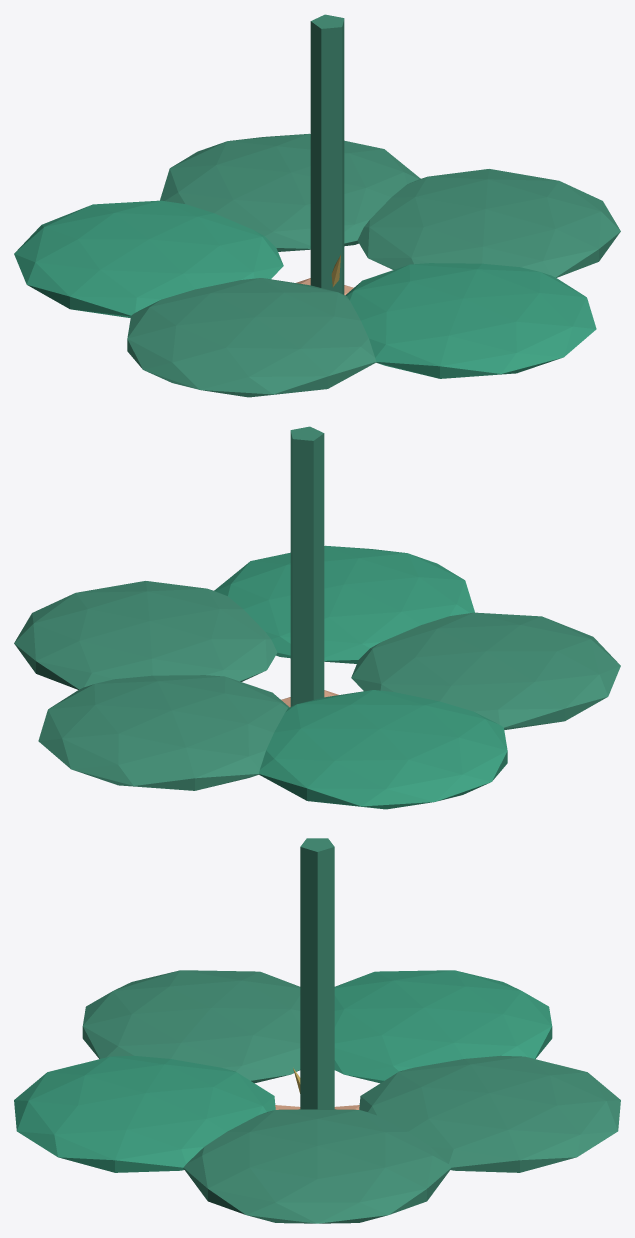
File: marsilea-macropoda.glb
The picture shows the model from 3 angles, top to bottom: view 1: azimuth 30°, elevation 25°; view 2: azimuth 150°, elevation 25°; view 3: azimuth 270°, elevation 25°; orthographic projection.
Parts seen in each view (by area): view 1: pad2, pad1, pad3, pad0, pad4, stem; view 2: pad3, pad4, pad2, pad0, pad1, stem; view 3: pad0, pad1, pad4, pad3, pad2, stem.
Part boxes in pixels (x1=…): pad2: x1=127, y1=278, x2=376, y2=397; pad1: x1=345, y1=263, x2=596, y2=378; pad3: x1=14, y1=200, x2=283, y2=317; pad0: x1=357, y1=169, x2=620, y2=277; pad4: x1=160, y1=133, x2=420, y2=251; stem: x1=310, y1=14, x2=344, y2=294; pad3: x1=258, y1=690, x2=507, y2=809; pad4: x1=38, y1=675, x2=289, y2=790; pad2: x1=351, y1=612, x2=620, y2=729; pad0: x1=14, y1=581, x2=277, y2=689; pad1: x1=214, y1=545, x2=474, y2=663; stem: x1=290, y1=426, x2=324, y2=706; pad0: x1=183, y1=1109, x2=451, y2=1223; pad1: x1=14, y1=1055, x2=275, y2=1172; pad4: x1=359, y1=1055, x2=620, y2=1172; pad3: x1=334, y1=970, x2=552, y2=1083; pad2: x1=82, y1=970, x2=300, y2=1083; stem: x1=300, y1=838, x2=334, y2=1109.
Size of the model in its own units: 0.3968 by 0.2302 by 0.4031.
